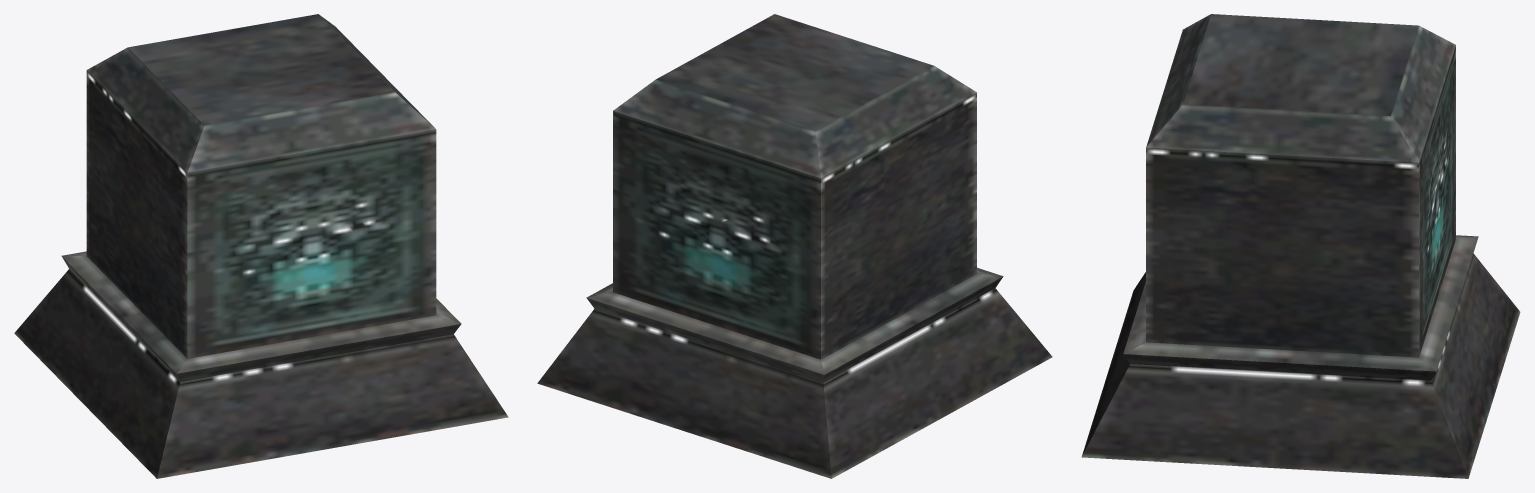
The model's file is 5st_pillar_002.glb.
3 views of the same model, side by side, from view 1: azimuth 30°, elevation 25°; view 2: azimuth 150°, elevation 25°; view 3: azimuth 270°, elevation 25° (orthographic). The views are drawn at different scales.
Visible parts, largest first — view 1: 5st_pillar_002; view 2: 5st_pillar_002; view 3: 5st_pillar_002.
Boxes of the visible parts, x1,y1,x2,y2 form: 5st_pillar_002: [14, 14, 508, 478]; 5st_pillar_002: [537, 14, 1052, 478]; 5st_pillar_002: [1081, 14, 1520, 478].
Size of the model in its own units: 5.32 by 4.21 by 5.24.
1 material, 1 textured.
